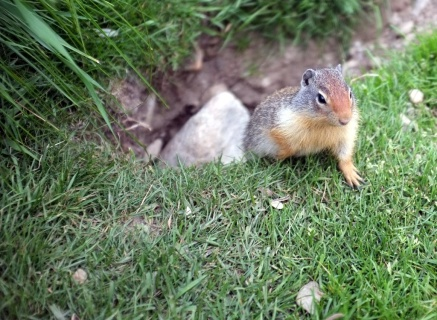Squirrel: (240, 64, 375, 190)
